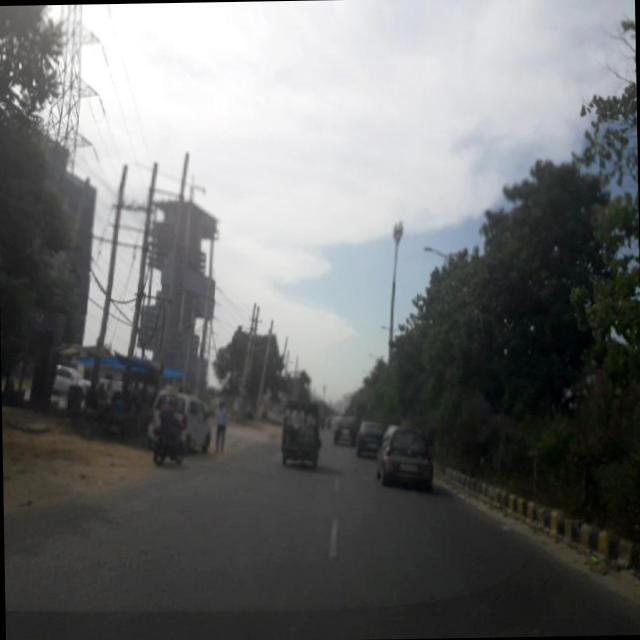crack: (76, 474, 492, 626)
